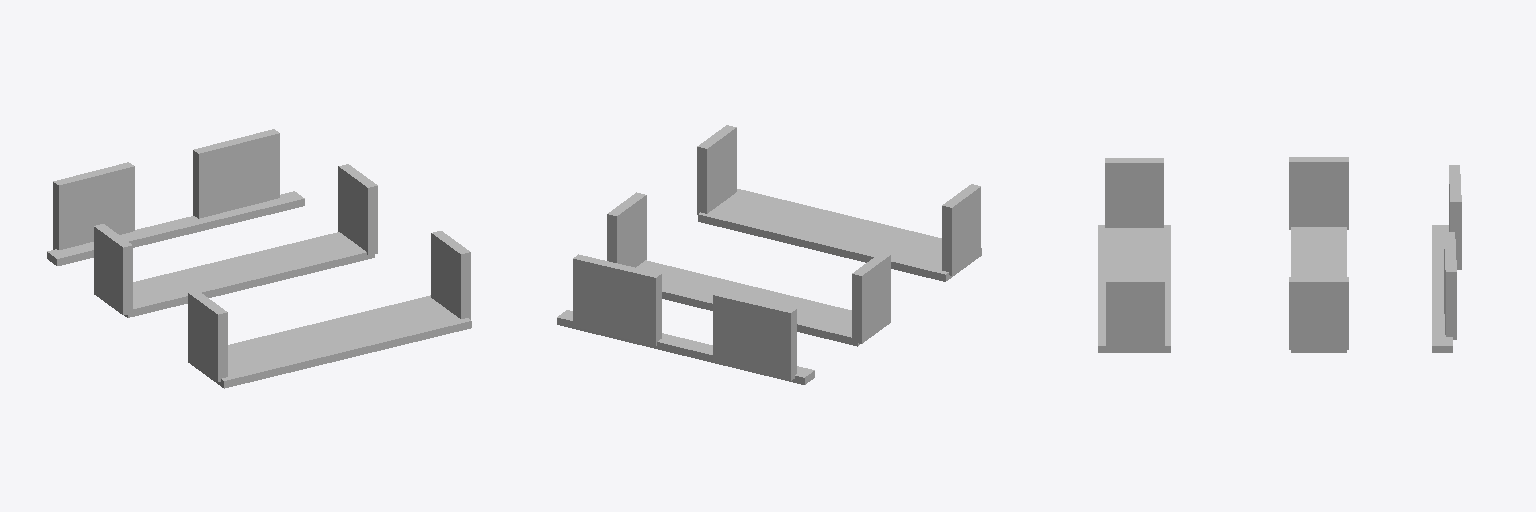
File: cell2.1.hb.obj
3 views of the same model, side by side, from view 1: azimuth 30°, elevation 25°; view 2: azimuth 150°, elevation 25°; view 3: azimuth 270°, elevation 25° (orthographic).
Parts seen in each view (by area): view 1: cube.005_Cube.007, cube.004_Cube.006, Cube.004_Cube.012, Cube.005_Cube.013, cube.003_Cube.005, Cube.002_Cube.010, Cube.001_Cube.009, Cube_Cube.008, Cube.003_Cube.011; view 2: cube.005_Cube.007, Cube.004_Cube.012, Cube.005_Cube.013, cube.004_Cube.006, Cube.001_Cube.009, Cube.002_Cube.010, Cube.003_Cube.011, Cube_Cube.008, cube.003_Cube.005; view 3: cube.005_Cube.007, Cube_Cube.008, Cube.003_Cube.011, Cube.001_Cube.009, Cube.002_Cube.010, cube.004_Cube.006, cube.003_Cube.005, Cube.004_Cube.012, Cube.005_Cube.013.
Boxes of the visible parts, <box> form: cube.005_Cube.007: <box>188,295,471,388</box>; cube.004_Cube.006: <box>124,232,374,317</box>; Cube.004_Cube.012: <box>193,129,279,218</box>; Cube.005_Cube.013: <box>53,162,134,249</box>; cube.003_Cube.005: <box>47,191,304,265</box>; Cube.002_Cube.010: <box>188,291,227,381</box>; Cube.001_Cube.009: <box>94,224,132,314</box>; Cube_Cube.008: <box>338,164,377,255</box>; Cube.003_Cube.011: <box>431,231,470,319</box>; cube.005_Cube.007: <box>698,189,981,281</box>; Cube.004_Cube.012: <box>573,254,661,345</box>; Cube.005_Cube.013: <box>713,291,796,380</box>; cube.004_Cube.006: <box>636,260,859,346</box>; Cube.001_Cube.009: <box>852,252,890,343</box>; Cube.002_Cube.010: <box>942,184,980,275</box>; Cube.003_Cube.011: <box>697,125,736,214</box>; Cube_Cube.008: <box>607,192,646,267</box>; cube.003_Cube.005: <box>557,310,814,384</box>; cube.005_Cube.007: <box>1098,225,1170,352</box>; Cube_Cube.008: <box>1289,277,1348,349</box>; Cube.003_Cube.011: <box>1106,277,1164,349</box>; Cube.001_Cube.009: <box>1289,157,1348,229</box>; Cube.002_Cube.010: <box>1105,158,1163,227</box>; cube.004_Cube.006: <box>1291,227,1346,352</box>; cube.003_Cube.005: <box>1432,225,1452,352</box>; Cube.004_Cube.012: <box>1444,232,1456,339</box>; Cube.005_Cube.013: <box>1449,165,1461,269</box>.
Bounding box in the file's own units: 12.41 × 3.35 × 15.25.